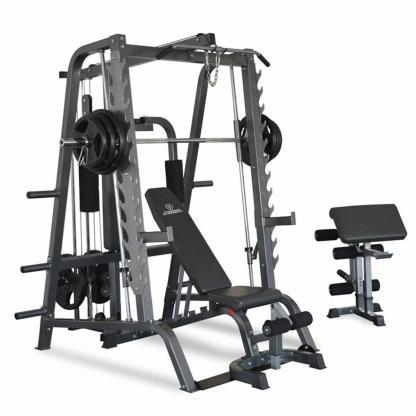smith machine: (16, 31, 315, 395)
